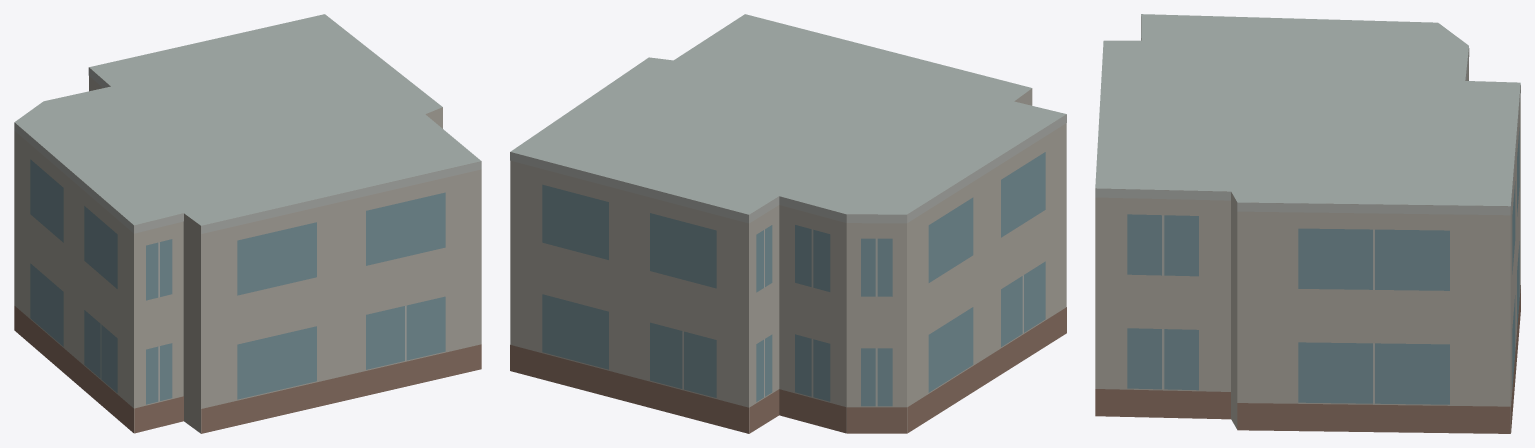
The model's file is survey-upis-32605007.glb.
3 views of the same model, side by side, from view 1: azimuth 30°, elevation 25°; view 2: azimuth 150°, elevation 25°; view 3: azimuth 270°, elevation 25° (orthographic). The views are drawn at different scales.
Parts seen in each view (by area): view 1: survey-upis-32605007.tmp; view 2: survey-upis-32605007.tmp; view 3: survey-upis-32605007.tmp.
Boxes of the visible parts, x1=… form: survey-upis-32605007.tmp: x1=14, y1=14, x2=481, y2=433; survey-upis-32605007.tmp: x1=510, y1=14, x2=1066, y2=433; survey-upis-32605007.tmp: x1=1095, y1=14, x2=1520, y2=433.
Bounding box in the file's own units: 11.05 × 6.1 × 10.34.
